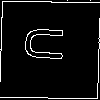U: (25, 24, 74, 64)
